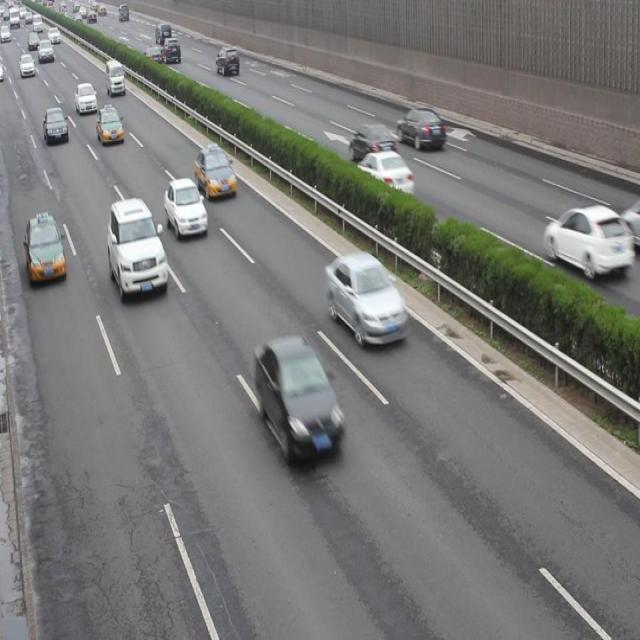car: (254, 332, 342, 464), (324, 249, 407, 346), (106, 194, 167, 301), (542, 202, 625, 279), (24, 212, 67, 288), (162, 176, 208, 239), (356, 151, 412, 202), (193, 144, 236, 202), (396, 104, 445, 153), (348, 122, 396, 162), (94, 103, 124, 146), (44, 105, 68, 144)
